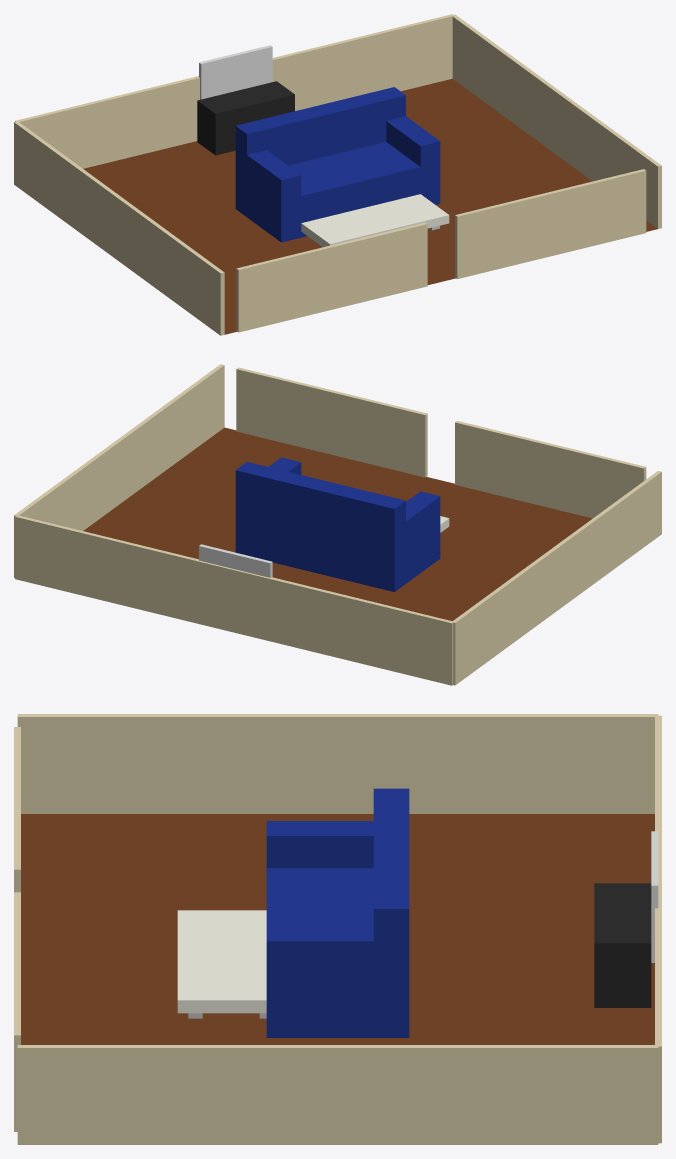
File: boq_professional_d2bb8f7c-7293-4be7-9824-61cb47cc3ac7.obj
3 views of the same model, one above another, from view 1: azimuth 30°, elevation 25°; view 2: azimuth 150°, elevation 25°; view 3: azimuth 270°, elevation 25° (orthographic). The views are drawn at different scales.
Parts seen in each view (by area): view 1: Floor_test_living_room, BackWall_test_living_room, LeftWall_test_living_room, RightWall_test_living_room, FrontWallLeft_test_living_room, FrontWallRight_test_living_room, SofaBody_test_living_room, SofaBackrest_test_living_room, TVStand_test_living_room, CoffeeTableTop_test_living_room, TVScreen_test_living_room, SofaArmrest1_test_living_room (+1 smaller); view 2: Floor_test_living_room, BackWall_test_living_room, LeftWall_test_living_room, FrontWallRight_test_living_room, RightWall_test_living_room, SofaBackrest_test_living_room, FrontWallLeft_test_living_room, SofaBody_test_living_room, SofaArmrest1_test_living_room, TVScreen_test_living_room, SofaArmrest2_test_living_room; view 3: Floor_test_living_room, RightWall_test_living_room, LeftWall_test_living_room, SofaBody_test_living_room, CoffeeTableTop_test_living_room, SofaArmrest2_test_living_room, SofaBackrest_test_living_room, TVStand_test_living_room, SofaArmrest1_test_living_room, BackWall_test_living_room, FrontWallRight_test_living_room, FrontWallLeft_test_living_room (+1 smaller).
Part boxes in pixels (x1,y1,x2,y2): Floor_test_living_room: (83, 78, 657, 334); BackWall_test_living_room: (15, 14, 453, 168); LeftWall_test_living_room: (14, 121, 224, 335); RightWall_test_living_room: (452, 14, 661, 228); FrontWallLeft_test_living_room: (236, 222, 427, 332); FrontWallRight_test_living_room: (455, 169, 646, 278); SofaBody_test_living_room: (235, 142, 440, 242); SofaBackrest_test_living_room: (235, 87, 405, 196); TVStand_test_living_room: (197, 81, 294, 155); CoffeeTableTop_test_living_room: (301, 194, 449, 247); TVScreen_test_living_room: (199, 45, 272, 99); SofaArmrest1_test_living_room: (247, 150, 301, 221); Floor_test_living_room: (83, 427, 592, 621); BackWall_test_living_room: (15, 515, 453, 685); LeftWall_test_living_room: (452, 471, 661, 685); FrontWallRight_test_living_room: (236, 367, 427, 477); RightWall_test_living_room: (14, 364, 224, 577); SofaBackrest_test_living_room: (235, 462, 405, 570); FrontWallLeft_test_living_room: (455, 421, 646, 518); SofaBody_test_living_room: (235, 512, 440, 591); SofaArmrest1_test_living_room: (382, 491, 440, 570); TVScreen_test_living_room: (199, 544, 272, 577); SofaArmrest2_test_living_room: (236, 457, 301, 516); Floor_test_living_room: (21, 814, 654, 1044); RightWall_test_living_room: (17, 1045, 658, 1144); LeftWall_test_living_room: (17, 714, 658, 813); SofaBody_test_living_room: (266, 868, 409, 1037); CoffeeTableTop_test_living_room: (177, 910, 266, 1013); SofaArmrest2_test_living_room: (266, 926, 408, 1005); SofaBackrest_test_living_room: (373, 788, 409, 1005); TVStand_test_living_room: (594, 883, 651, 1007); SofaArmrest1_test_living_room: (266, 821, 373, 868); BackWall_test_living_room: (655, 715, 661, 1143); FrontWallRight_test_living_room: (14, 892, 20, 1131); FrontWallLeft_test_living_room: (14, 727, 20, 892).
Size of the model in its own units: 22.2 by 5.1 by 18.2.
